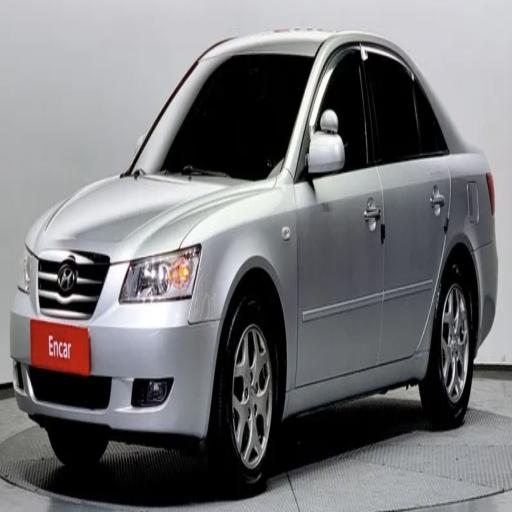normal: (15, 24, 507, 468)
